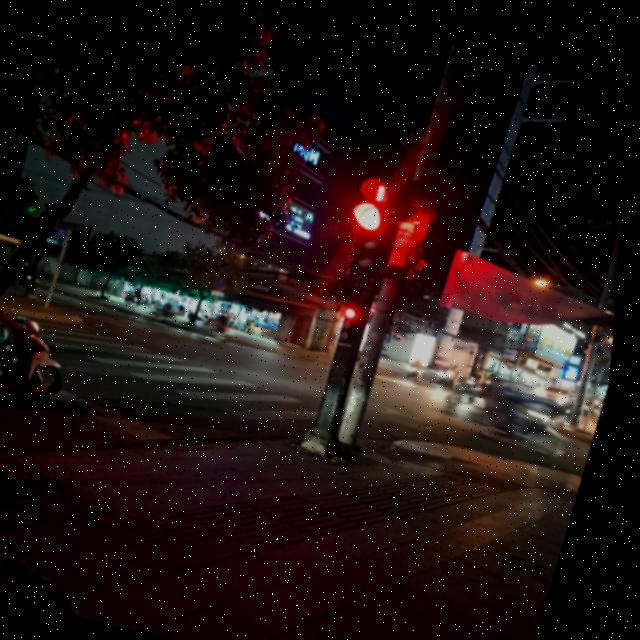Red: (333, 191, 406, 276), (338, 294, 376, 343)
